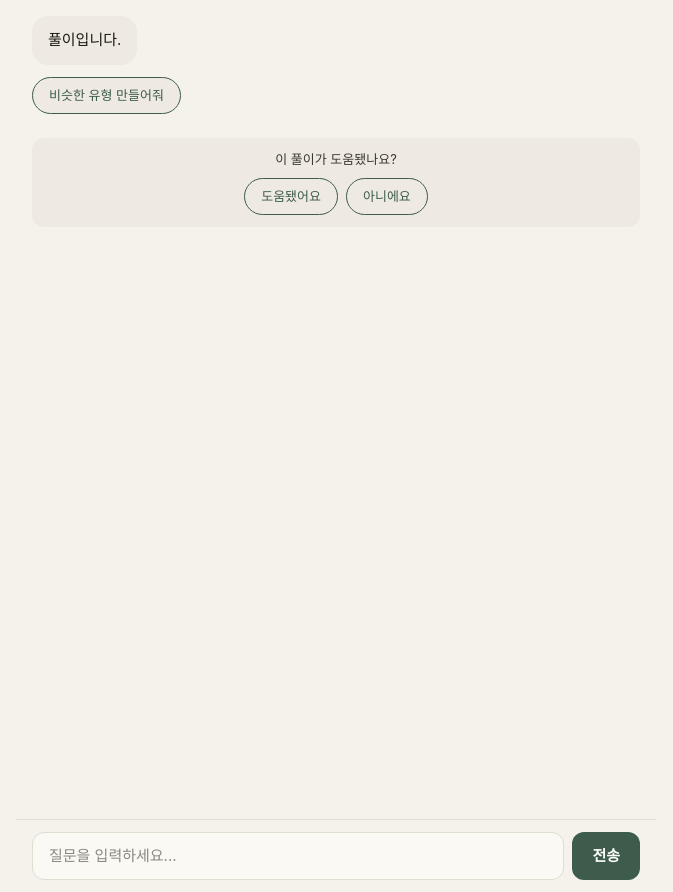
ChatPage › id="similar" 칩 클릭 시 난이도 선택 UI가 표시됨
Click the button "비슷한 유형 만들어줘" at x=106, y=96, box [32, 77, 181, 114]
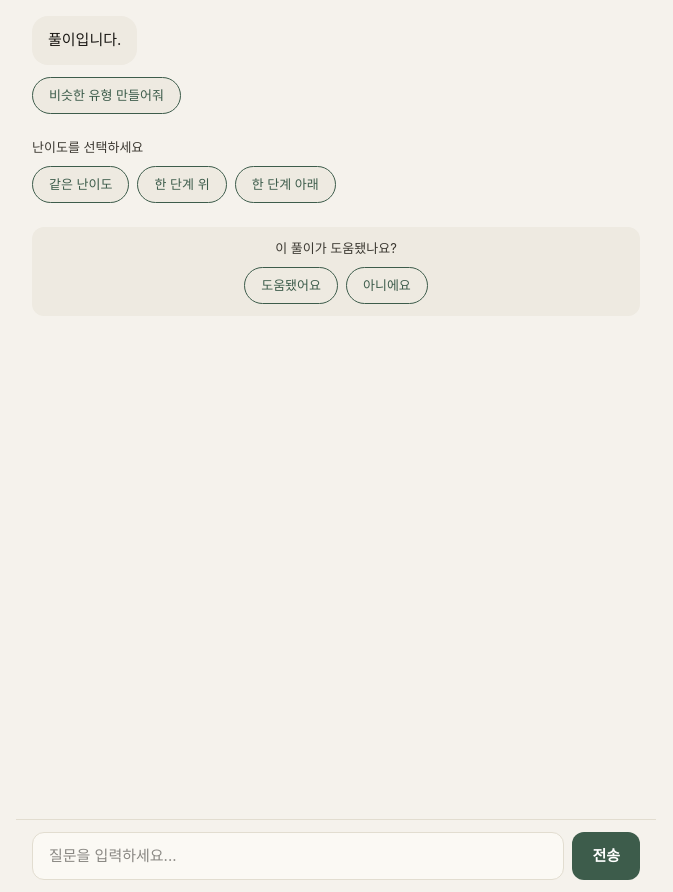
Result: the element with test id "difficulty-selector" is shown at [32, 139, 336, 203]
